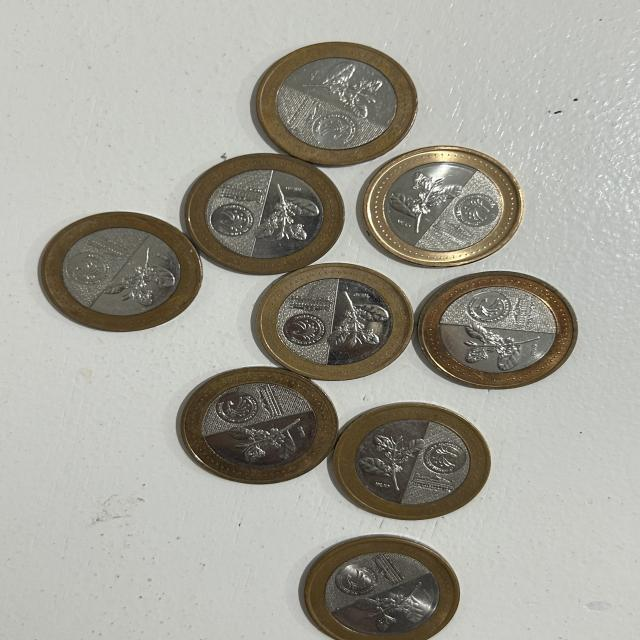20_New_Back: (106, 244, 176, 307), (361, 431, 421, 496), (385, 172, 457, 226), (458, 322, 538, 370), (303, 63, 381, 112), (254, 188, 317, 247), (335, 291, 394, 348), (228, 421, 307, 461)
